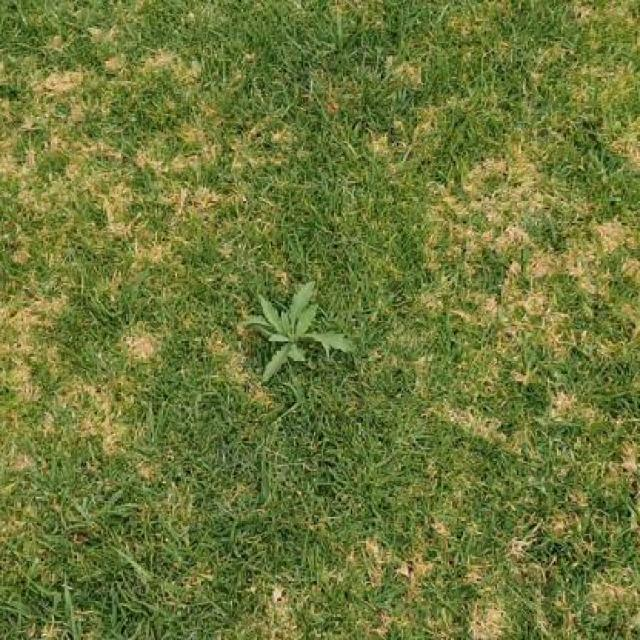weed: (243, 283, 354, 382)
